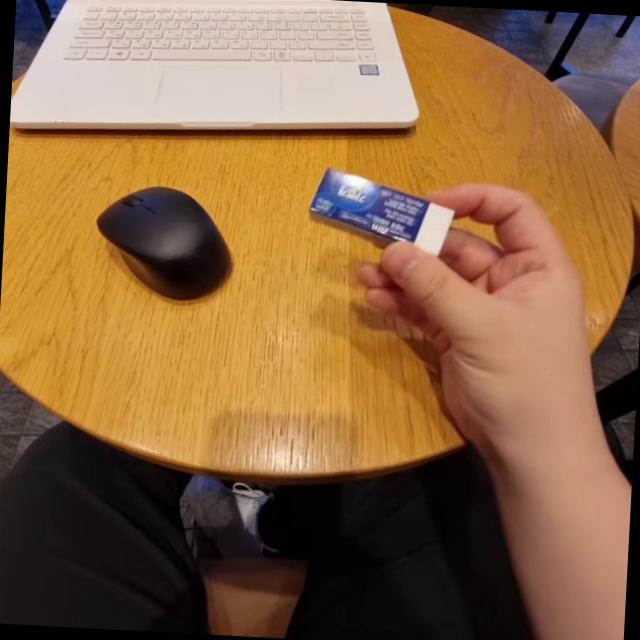eraser: (303, 167, 466, 260)
grab_eraser: (304, 157, 584, 432)
hand: (398, 185, 578, 402)
mouse: (78, 175, 246, 308)
